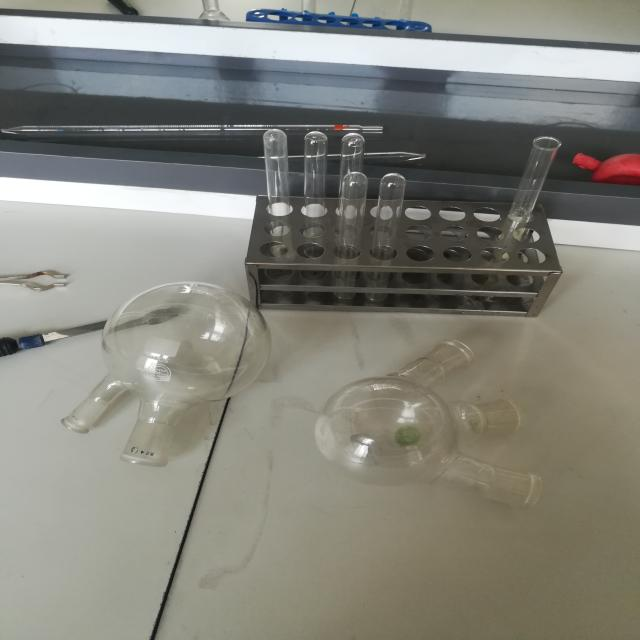Round_Bottom_Flask_Borosilicate_Glass_2_Neck: (43, 249, 277, 519)
Round_Bottom_Flask_Borosilicate_Glass_3_Neck: (295, 254, 562, 551)
